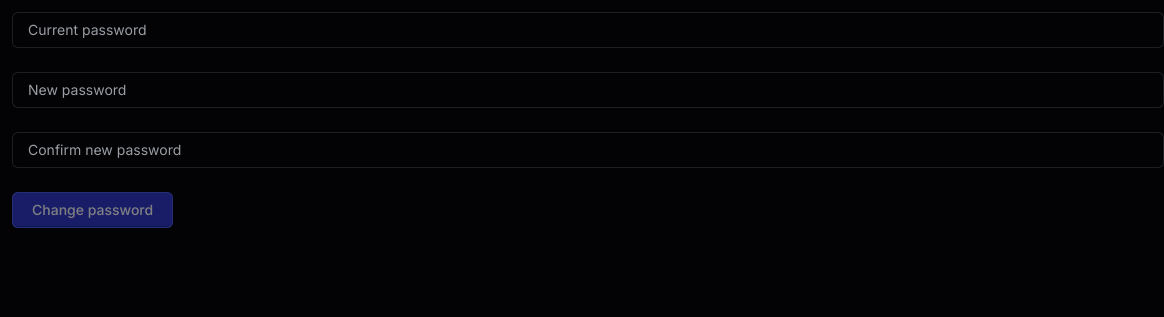
Test: ChangePasswordForm › shows minLength error when new password is too short
Type "123" into the password field labelled "New password" at [588, 90], box x1=28 y1=72 x2=1148 y2=108
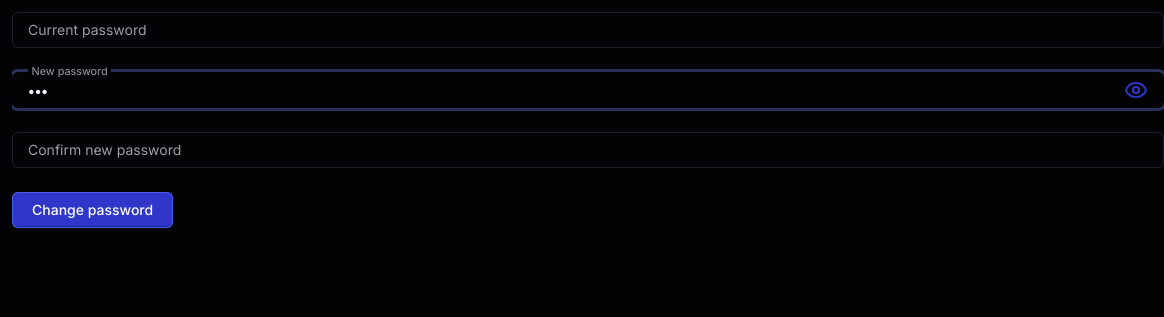
Click the button "Change password" at [93, 210], box x1=12 y1=192 x2=173 y2=228
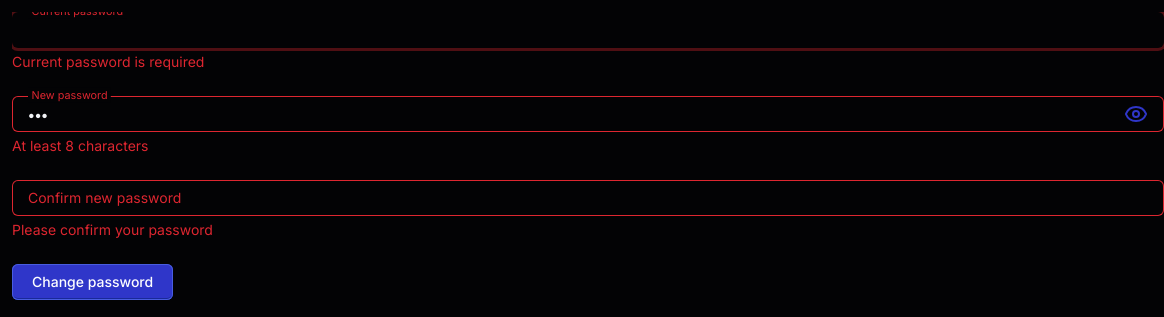
Result: the text "At least 8 characters" is shown at x1=12 y1=136 x2=148 y2=156
